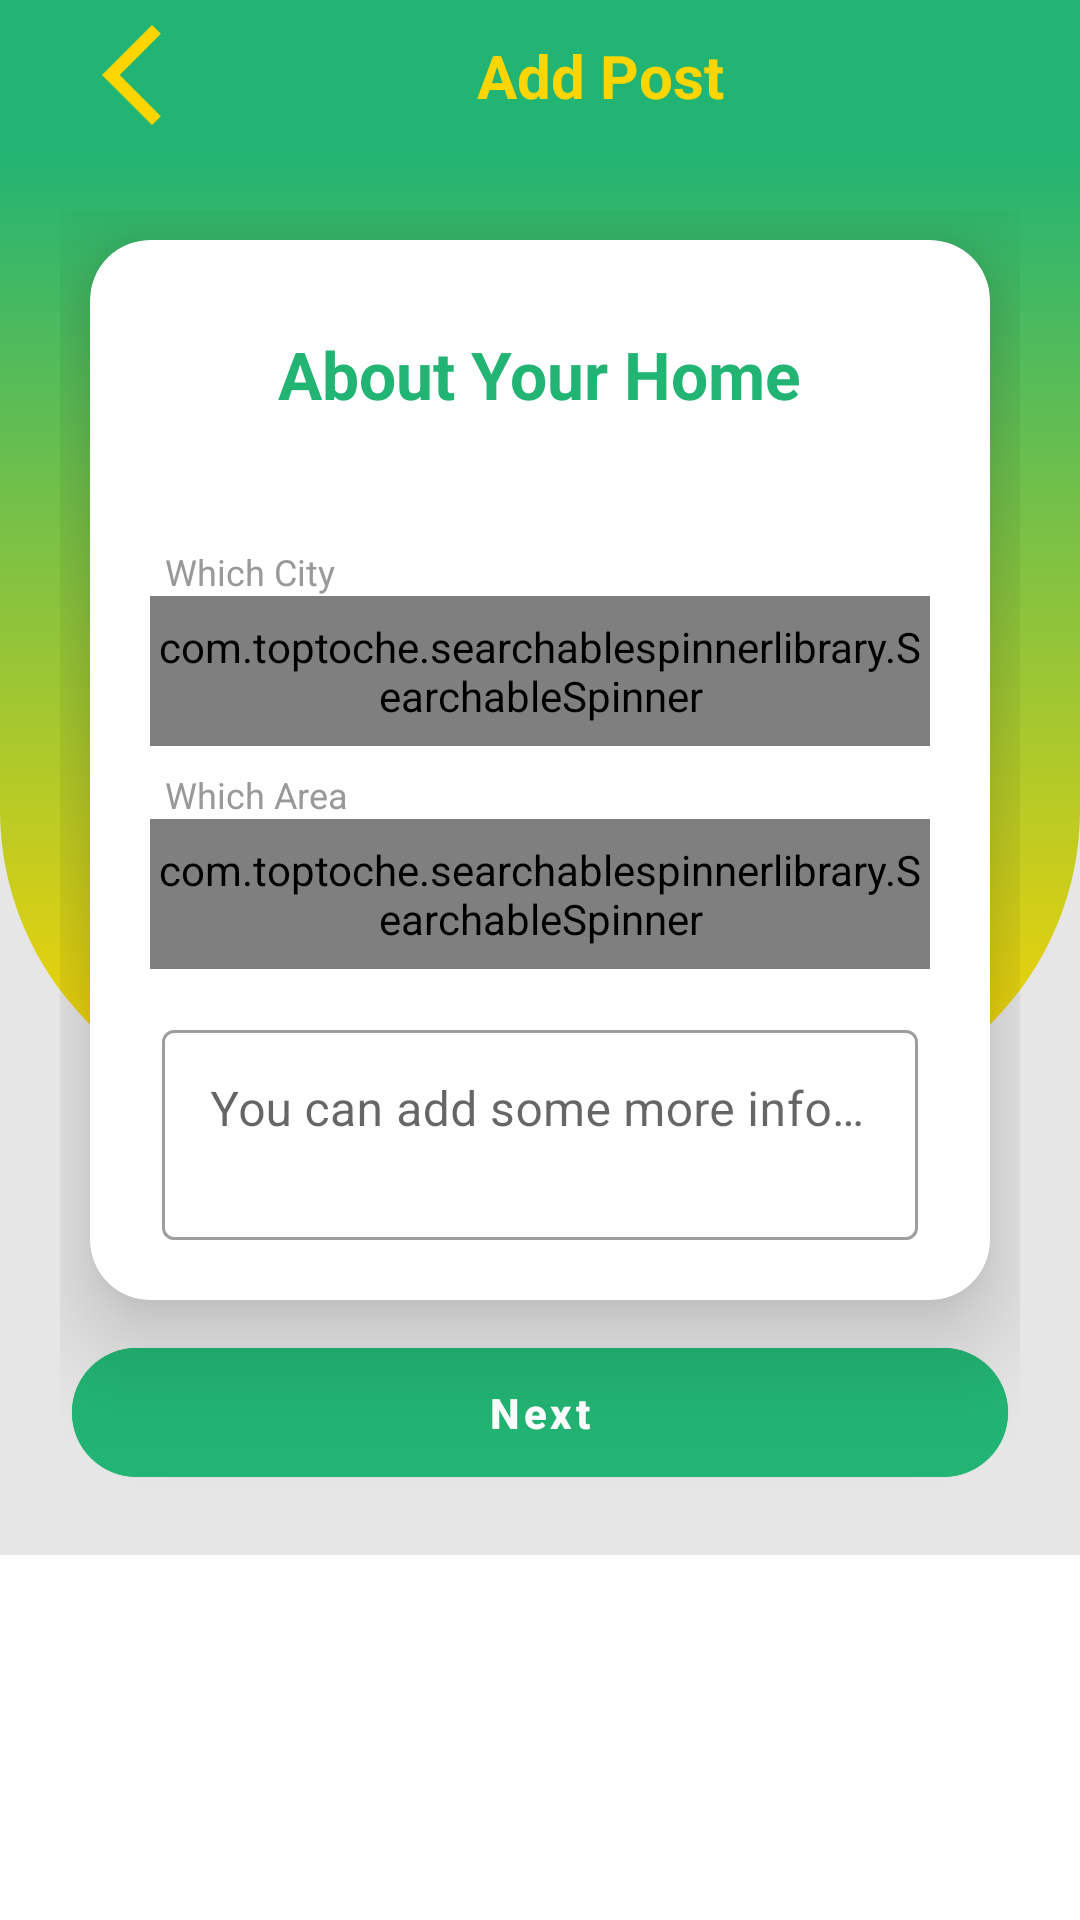

Screen size 1080 × 1920. Icon name, then its box in pixels as bbox(x1, y1, x2, y2):
back: bbox(102, 25, 161, 125)
